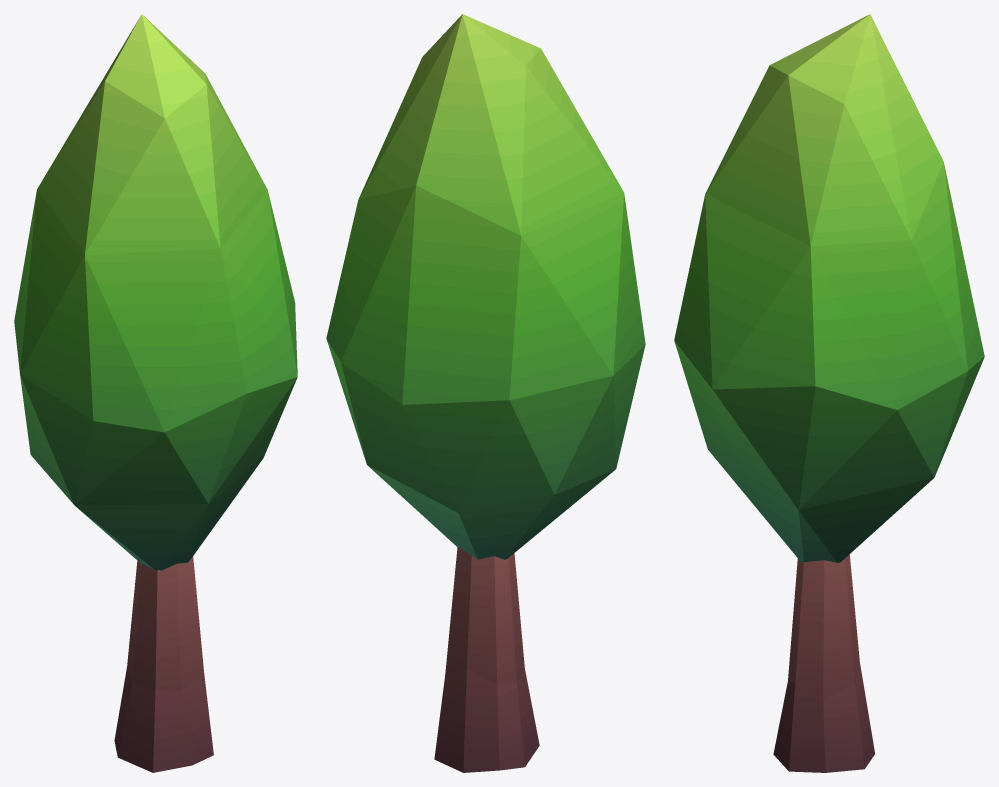
The model's file is Green_A.glb.
3 views of the same model, side by side, from view 1: azimuth 30°, elevation 25°; view 2: azimuth 150°, elevation 25°; view 3: azimuth 270°, elevation 25° (orthographic). The views are drawn at different scales.
Parts seen in each view (by area): view 1: Green_Leaves_A, Green_Trunk_A; view 2: Green_Leaves_A, Green_Trunk_A; view 3: Green_Leaves_A, Green_Trunk_A.
Part boxes in pixels (x1,y1,x2,y2): Green_Leaves_A: (14,14,297,570); Green_Trunk_A: (114,556,213,772); Green_Leaves_A: (326,14,645,559); Green_Trunk_A: (434,547,539,772); Green_Leaves_A: (674,14,984,562); Green_Trunk_A: (773,554,874,772).
Bounding box in the file's own units: 2.12 × 5.63 × 2.14.
1 material, 1 textured.
